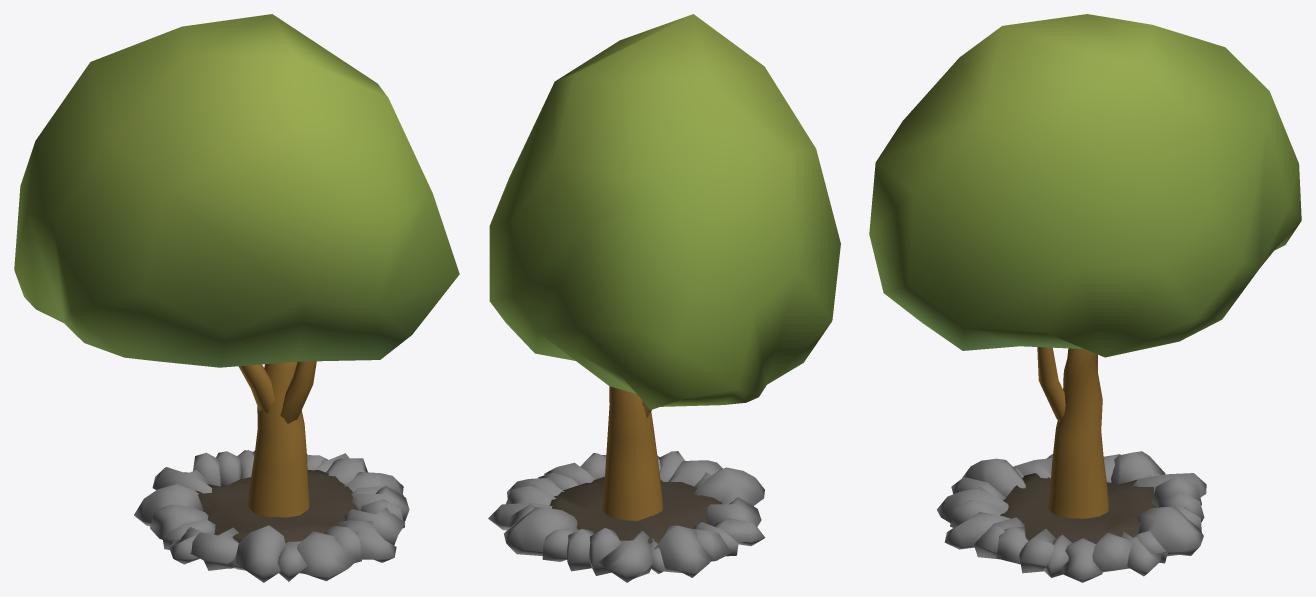
3 views of the same model, side by side, from view 1: azimuth 30°, elevation 25°; view 2: azimuth 150°, elevation 25°; view 3: azimuth 270°, elevation 25° (orthographic). The views are drawn at different scales.
Parts seen in each view (by area): view 1: Vert.014; view 2: Vert.014; view 3: Vert.014.
Boxes of the visible parts, <box> form: Vert.014: <box>14,14,459,582</box>; Vert.014: <box>488,14,840,582</box>; Vert.014: <box>869,14,1301,582</box>.
Bounding box in the file's own units: 232 × 335 × 266.
